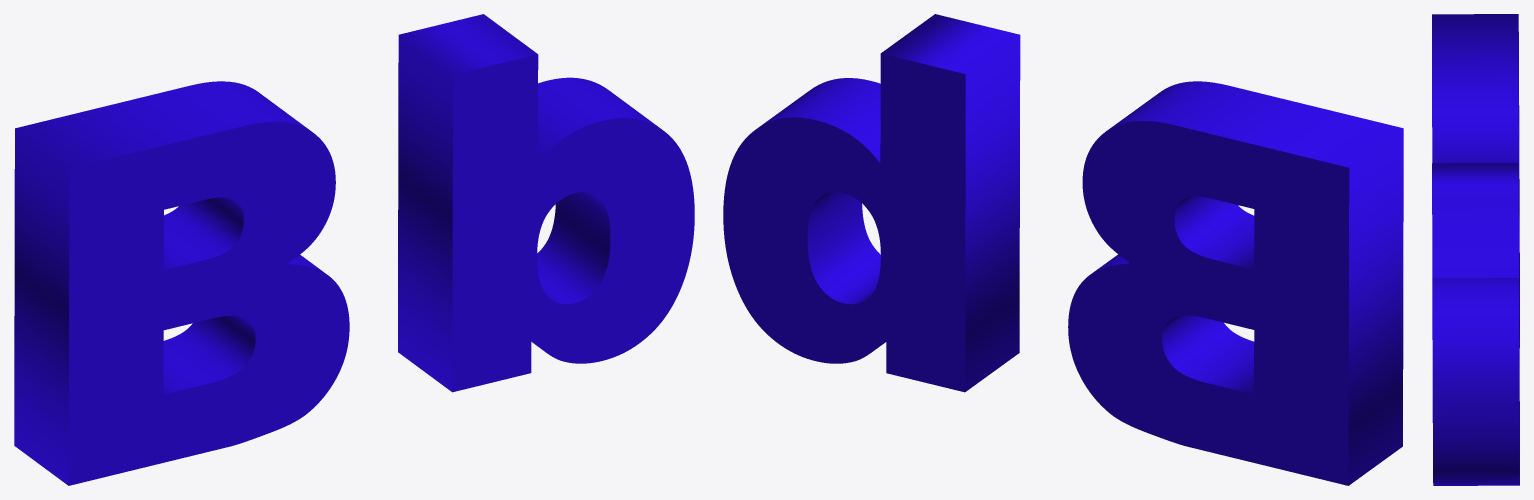
The model's file is letra b.fbx.
The picture shows the model from 3 angles, left to right: view 1: azimuth 30°, elevation 25°; view 2: azimuth 150°, elevation 25°; view 3: azimuth 270°, elevation 25°; orthographic projection. The views are drawn at different scales.
Parts seen in each view (by area): view 1: Text; view 2: Text; view 3: Text.
Part boxes in pixels (x1=…): Text: x1=14, y1=14, x2=694, y2=485; Text: x1=723, y1=14, x2=1403, y2=485; Text: x1=1432, y1=14, x2=1519, y2=485.
Size of the model in its own units: 106 by 52.4 by 16.21.
